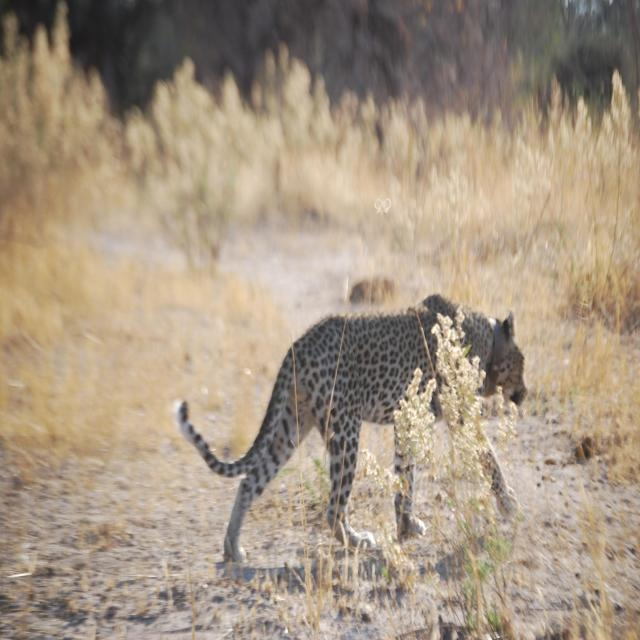Leopard: (155, 289, 519, 602)
